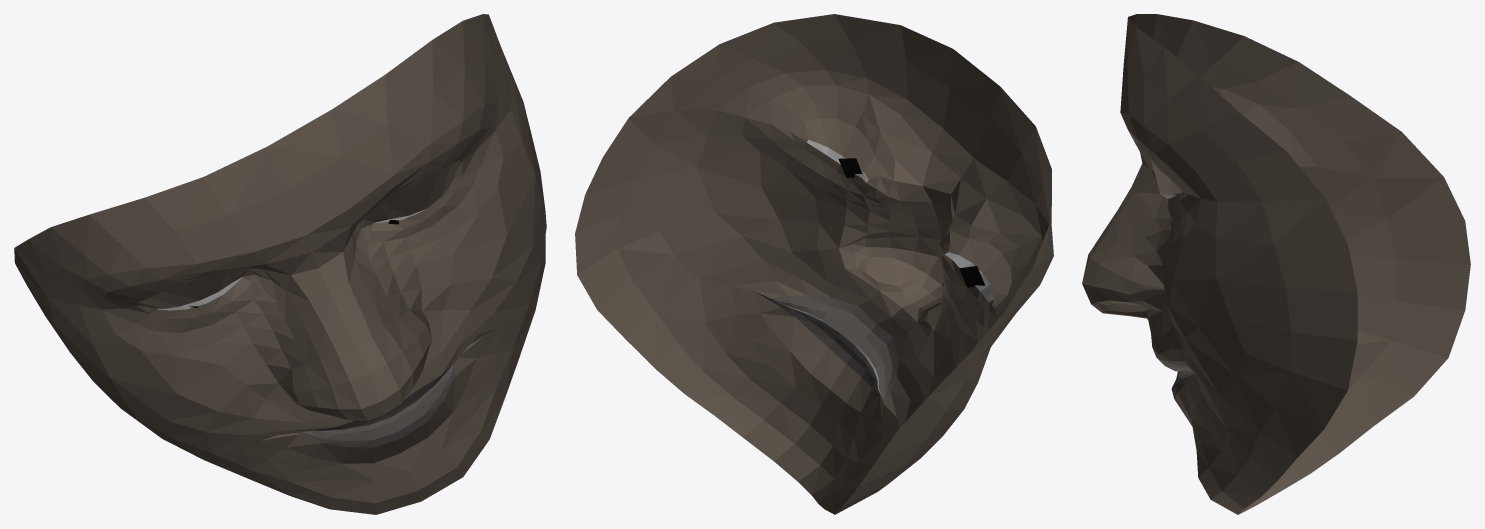
Rendered from frame_00253.obj.
The picture shows the model from 3 angles, left to right: view 1: azimuth 30°, elevation 25°; view 2: azimuth 150°, elevation 25°; view 3: azimuth 270°, elevation 25°; orthographic projection. The views are drawn at different scales.
Parts seen in each view (by area): view 1: face_model_with_iris; view 2: face_model_with_iris; view 3: face_model_with_iris.
Part boxes in pixels (x1,y1,x2,y2): face_model_with_iris: (14,14,546,514); face_model_with_iris: (575,14,1053,514); face_model_with_iris: (1082,14,1470,514).
Size of the model in its own units: 0.5655 by 0.5418 by 0.4127.
